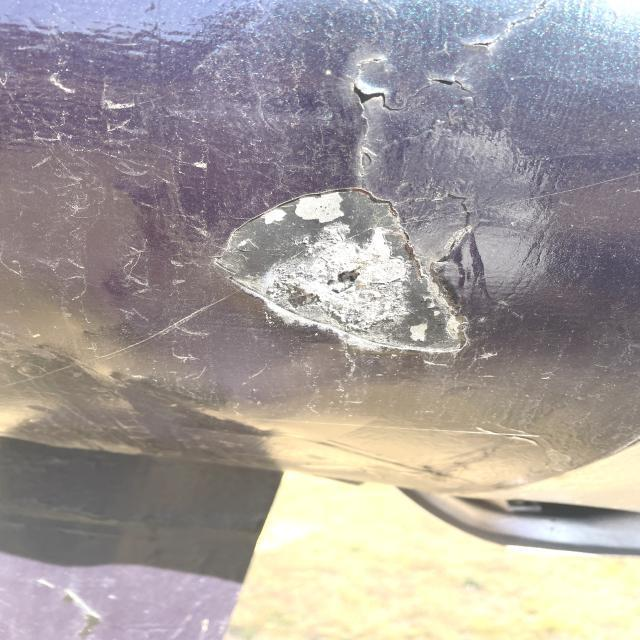crack: (342, 69, 415, 119), (465, 18, 543, 56), (431, 66, 484, 99)
dent: (207, 191, 487, 352)
